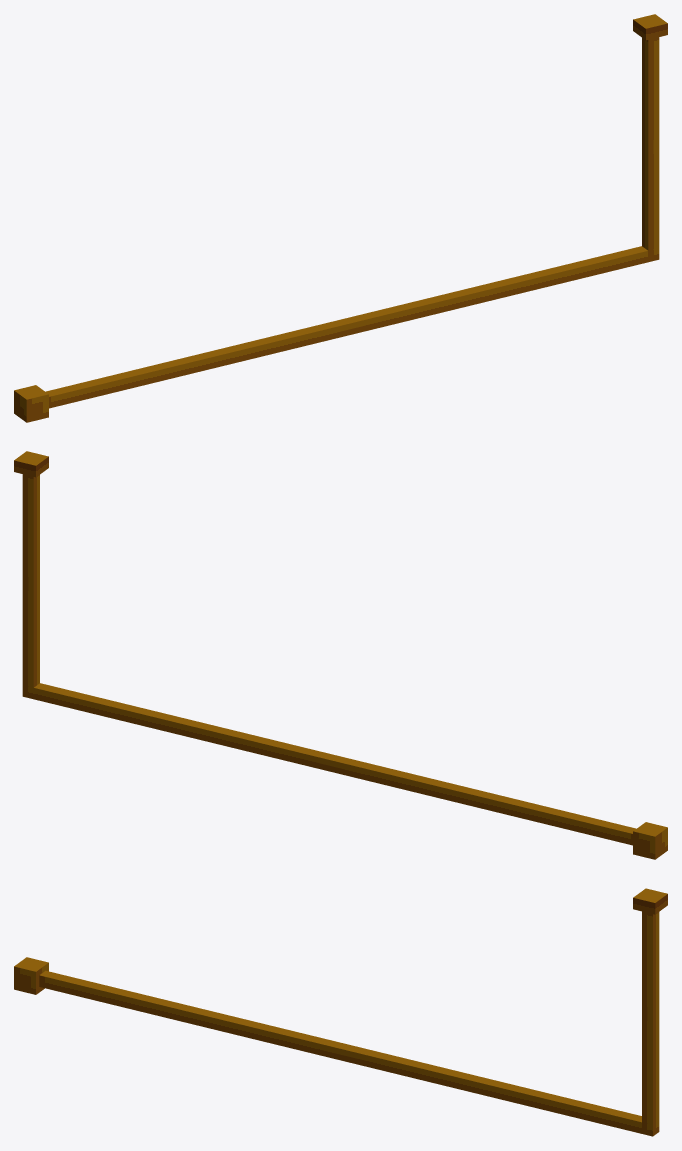
File: orr_w_branchao.fezao.glb
The picture shows the model from 3 angles, top to bottom: view 1: azimuth 30°, elevation 25°; view 2: azimuth 150°, elevation 25°; view 3: azimuth 330°, elevation 25°; orthographic projection.
Visible parts, largest first — view 1: ORR_W_BRANCHAO; view 2: ORR_W_BRANCHAO; view 3: ORR_W_BRANCHAO.
Boxes of the visible parts, <box> form: ORR_W_BRANCHAO: <box>14,14,667,422</box>; ORR_W_BRANCHAO: <box>14,451,667,859</box>; ORR_W_BRANCHAO: <box>14,888,667,1136</box>.
Bounding box in the file's own units: 7.25 × 2.62 × 0.25.
Materials: 1 (1 with a texture image).
